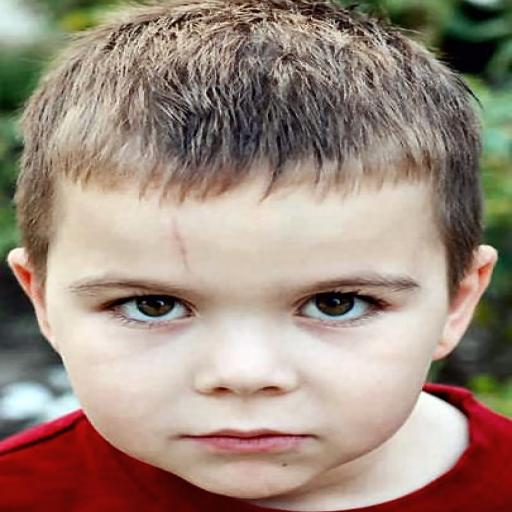Autism: (19, 11, 507, 506)
